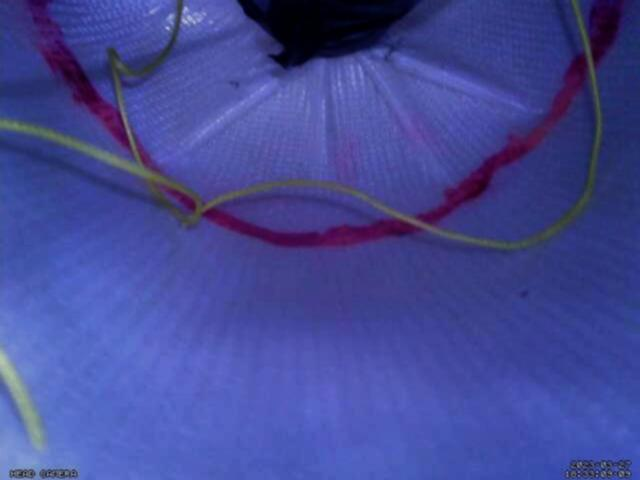head: (17, 0, 626, 252)
